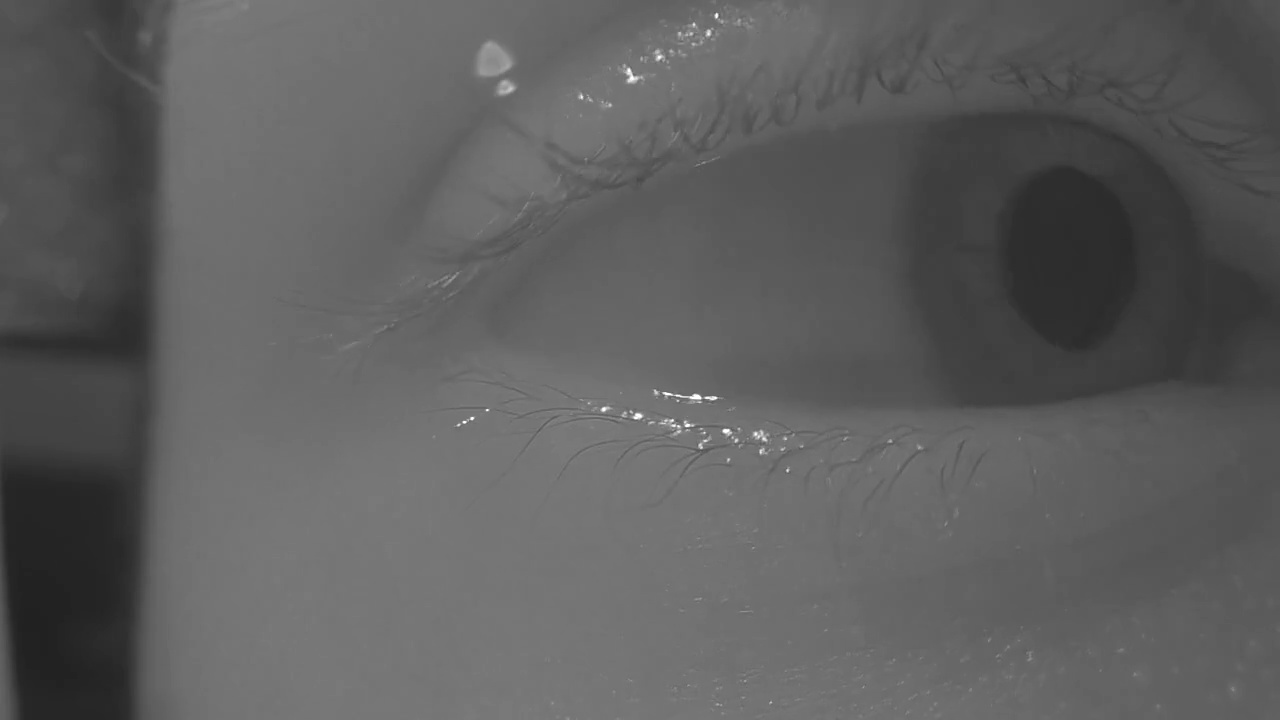pupil: (996, 165, 1133, 349)
